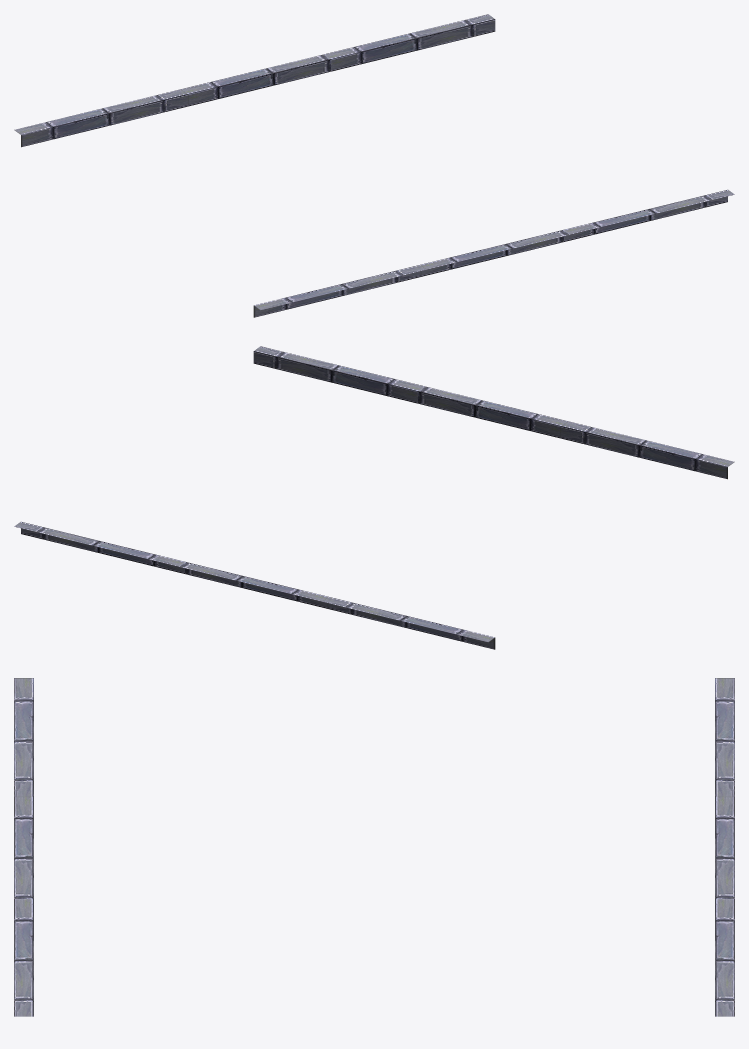
The model's file is Dungeon_plith_corridor.FBX.
The picture shows the model from 3 angles, top to bottom: view 1: azimuth 30°, elevation 25°; view 2: azimuth 150°, elevation 25°; view 3: azimuth 270°, elevation 25°; orthographic projection. The views are drawn at different scales.
Visible parts, largest first — view 1: wall_corridor; view 2: wall_corridor; view 3: wall_corridor.
Part boxes in pixels (bbox=[...]): wall_corridor: bbox=[14, 14, 734, 317]; wall_corridor: bbox=[14, 346, 734, 649]; wall_corridor: bbox=[14, 678, 734, 1016].
Bounding box in the file's own units: 1000 × 25 × 900.
Materials: 1 (1 with a texture image).
